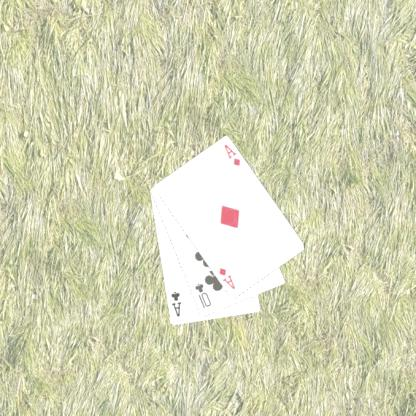10C: (194, 280, 214, 310)
AC: (170, 289, 184, 318)
AD: (223, 142, 244, 168), (218, 265, 238, 291)
